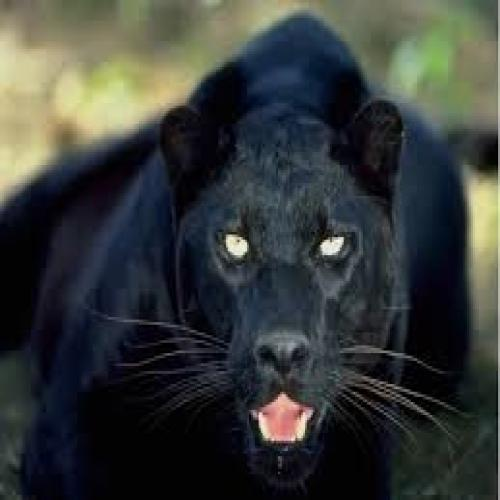panther-endangered: (1, 17, 466, 500)
